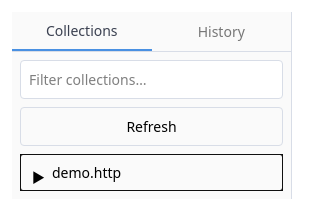
Test: SidebarShell collections load › shows empty filter message when search matches nothing
This screenshot has width=332, height=216.
Expected: the button "▶ demo.http" is shown, x1=20 y1=154 x2=283 y2=191
Type "zzz-no-match" into the search field labelled "Filter collections…".
click(152, 80); type("zzz-no-match")  # box x1=20 y1=60 x2=283 y2=99
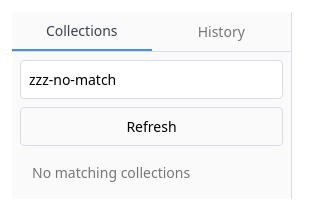
Now the text "No matching collections" is shown, box x1=32 y1=163 x2=190 y2=182
Now the button "demo.http" is gone
